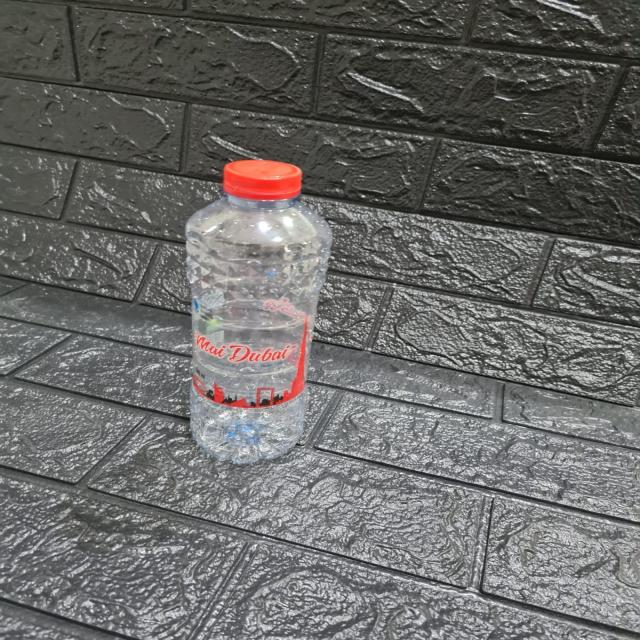bottle: (182, 150, 328, 464)
